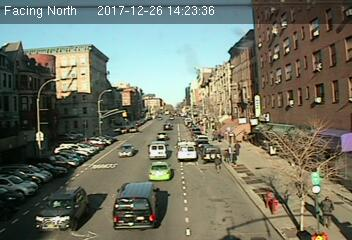car: (35, 187, 90, 232), (149, 162, 171, 182), (202, 145, 222, 162), (116, 144, 136, 157)
pedestrian: (320, 194, 334, 231)
truck: (111, 182, 161, 230), (148, 142, 168, 159), (176, 145, 198, 160)
